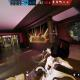Character: (54, 34, 58, 42)
Friend_label: (49, 30, 58, 34)
